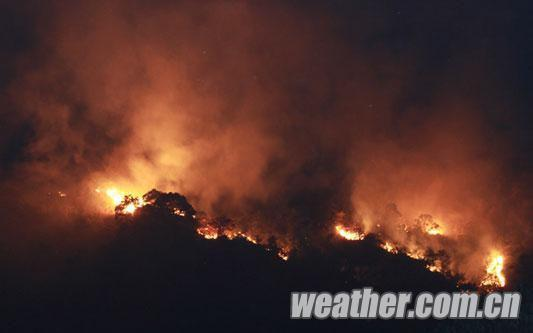fire: (341, 212, 508, 285), (201, 211, 291, 259), (106, 179, 158, 212)
